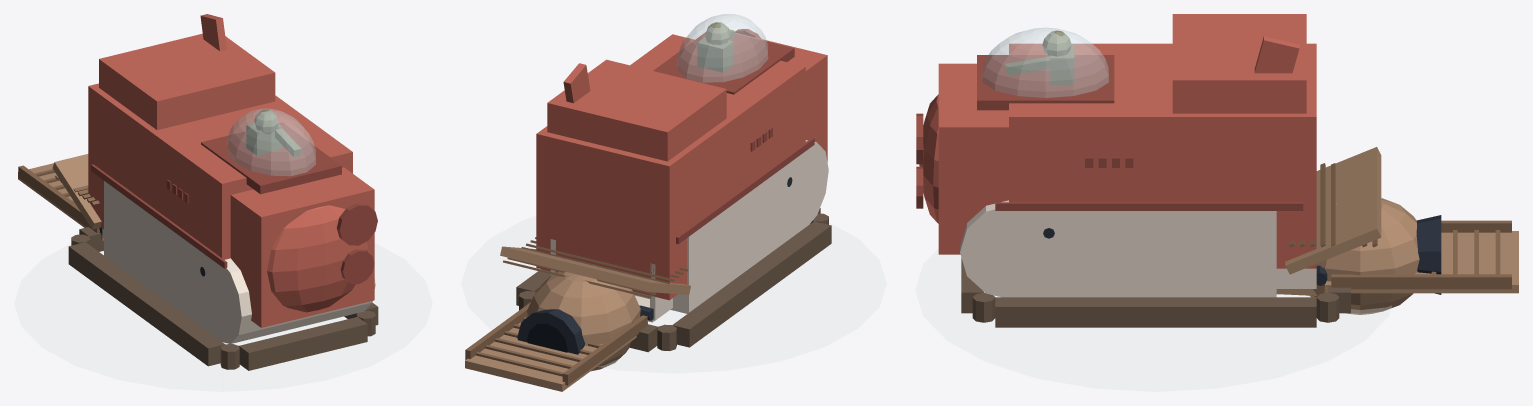
Rendered from soccoCraft.glb.
3 renders of one model, left to right at view 1: azimuth 30°, elevation 25°; view 2: azimuth 150°, elevation 25°; view 3: azimuth 270°, elevation 25°, orthographic. The views are drawn at different scales.
Parts seen in each view (by area): view 1: socco-spray, n1, n7, n3, n9, n5, n70, n15, n16, n11, n76, n32 (+10 smaller); view 2: n1, socco-spray, n7, n9, n70, n27, n15, n16, socco-ramp, n3, n32, n11 (+17 smaller); view 3: n1, socco-spray, n9, n7, n3, n72, n15, n32, n16, n11, n27, socco-ramp (+13 smaller).
Boxes of the visible parts, <box> form: socco-spray: <box>14,243,432,391</box>; n1: <box>88,83,352,259</box>; n7: <box>99,33,275,129</box>; n3: <box>230,167,374,327</box>; n9: <box>104,181,225,339</box>; n5: <box>267,205,368,312</box>; n70: <box>68,242,224,366</box>; n15: <box>227,108,315,176</box>; n16: <box>201,122,341,194</box>; n11: <box>199,257,375,343</box>; n76: <box>239,317,367,370</box>; n32: <box>52,154,101,229</box>; n1: <box>536,34,805,300</box>; socco-spray: <box>461,216,886,373</box>; n7: <box>547,59,726,161</box>; n9: <box>633,150,807,313</box>; n70: <box>672,221,831,347</box>; n27: <box>526,265,640,371</box>; n15: <box>677,14,768,82</box>; n16: <box>653,32,794,94</box>; socco-ramp: <box>465,321,647,391</box>; n3: <box>735,32,827,161</box>; n32: <box>500,246,690,294</box>; n11: <box>787,140,828,231</box>; n1: <box>1009,43,1316,268</box>; socco-spray: <box>915,249,1391,391</box>; n9: <box>1009,211,1276,297</box>; n7: <box>1172,14,1306,113</box>; n3: <box>938,63,1008,254</box>; n72: <box>995,297,1316,327</box>; n15: <box>982,27,1108,97</box>; n32: <box>1285,147,1381,274</box>; n16: <box>977,55,1114,110</box>; n11: <box>960,200,1063,297</box>; n27: <box>1309,198,1419,314</box>; socco-ramp: <box>1324,231,1518,293</box>.
Bounding box in the file's own units: 7.2 × 4.86 × 9.02.
